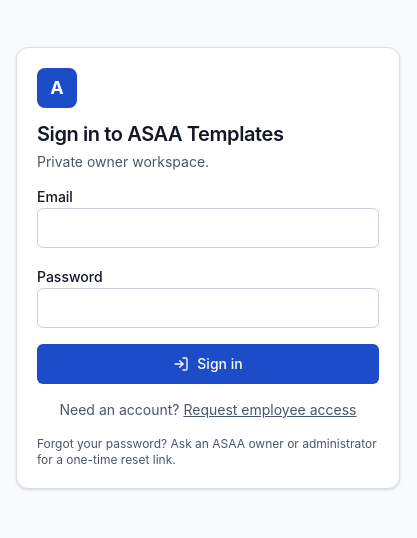
Test: authentication flow › shows the generic server error and clears the password
Type "owner@asaa.test" into the field labelled "Email".
click(208, 228); type("owner@asaa.test")  # box [37,208,379,248]
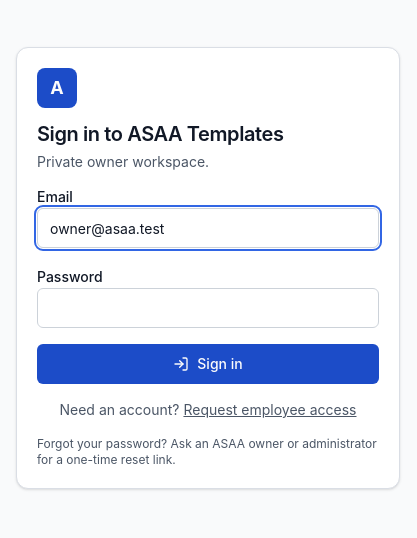
Type "wrong-password" into the password field labelled "Password".
click(208, 308); type("wrong-password")  # box [37,288,379,328]
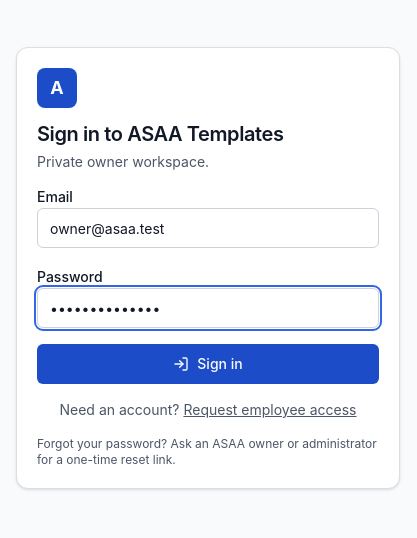
Click the button "Sign in".
click(208, 364)  # box [37,344,379,384]
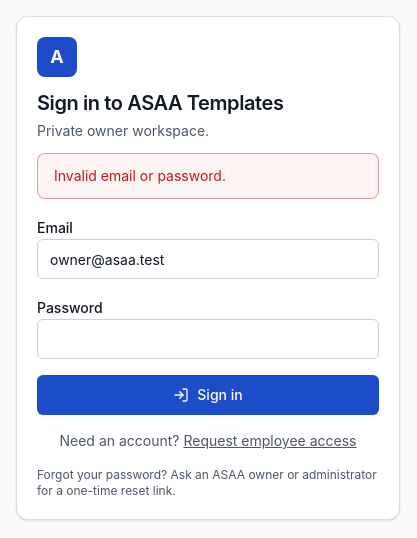
expect the message reads "Invalid email or password.": met, box [54,167,226,184]
expect the password field labelled "Password" is empty: met, box [37,319,379,359]
